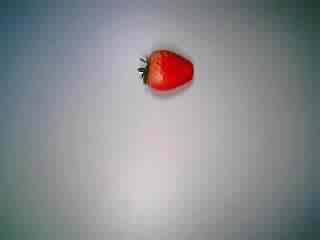strawberry: (133, 39, 201, 103)
